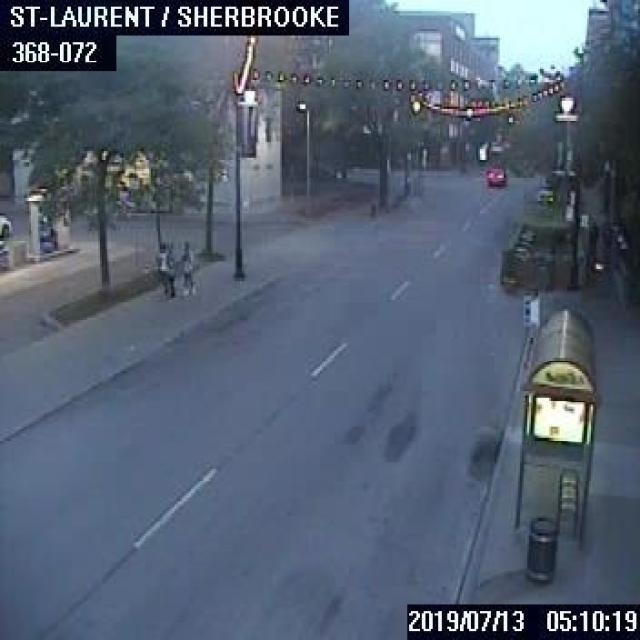pedestrian: (175, 238, 197, 297), (158, 240, 175, 296), (588, 219, 596, 258)
vehicle: (486, 162, 506, 185), (536, 175, 552, 202), (0, 211, 9, 238)
